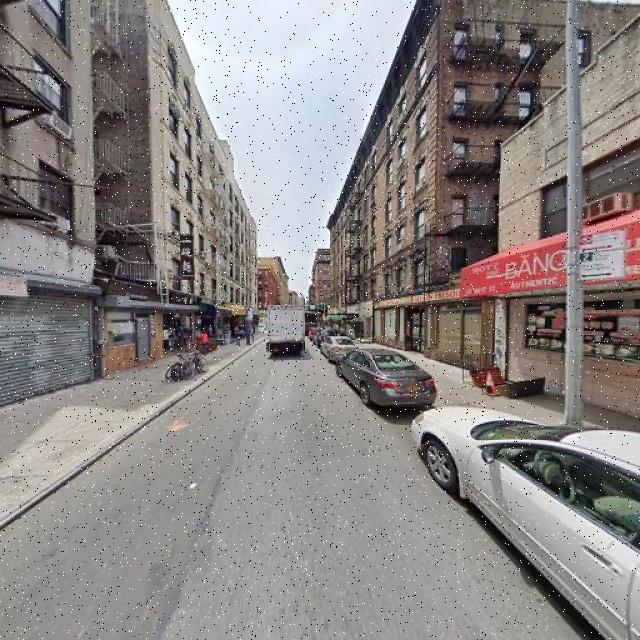Building: (500, 30, 640, 427), (330, 1, 433, 364), (153, 1, 257, 358), (1, 1, 93, 404)
